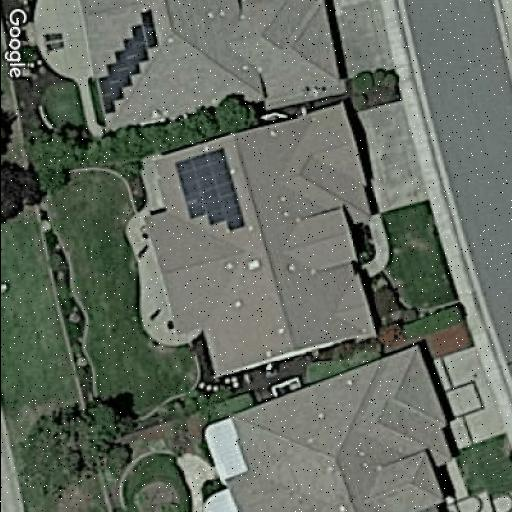solar-panel: (98, 5, 162, 121), (172, 145, 247, 236)
